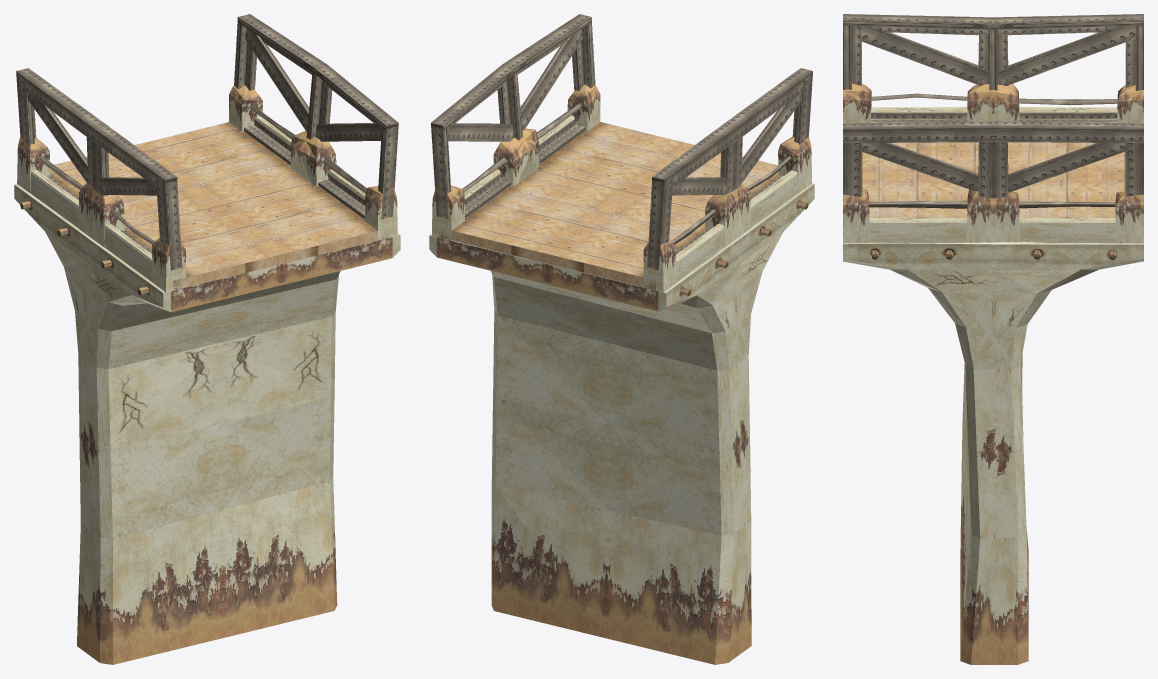
File: C2SMBRIDGE20m_B2_H.obj
3 renders of one model, left to right at view 1: azimuth 30°, elevation 25°; view 2: azimuth 150°, elevation 25°; view 3: azimuth 270°, elevation 25°, orthographic.
Parts seen in each view (by area): view 1: Node 0; view 2: Node 0; view 3: Node 0.
Boxes of the visible parts, left/top/right/bottom form: Node 0: left=14, top=14, right=400, bottom=664; Node 0: left=429, top=14, right=814, bottom=664; Node 0: left=843, top=14, right=1143, bottom=664.
Bounding box in the file's own units: 29.1 × 58.48 × 29.63.
Materials: 4 (4 with a texture image).
